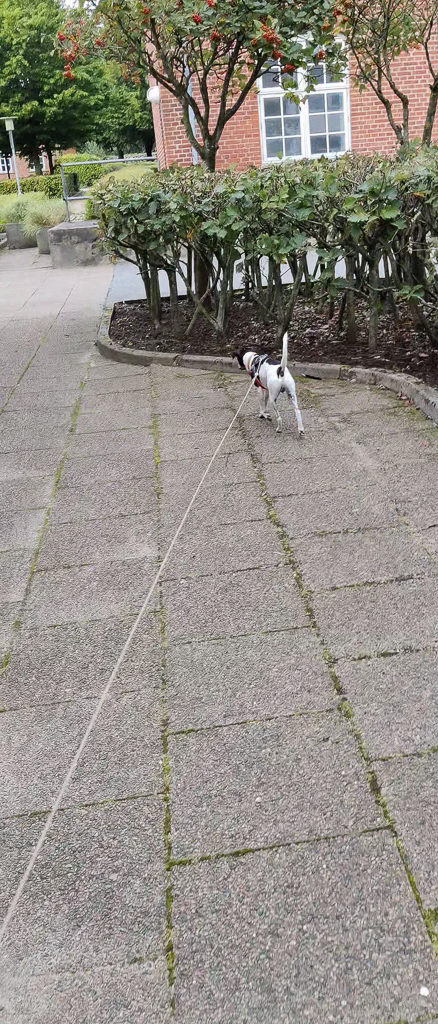Dog: (222, 325, 314, 451)
